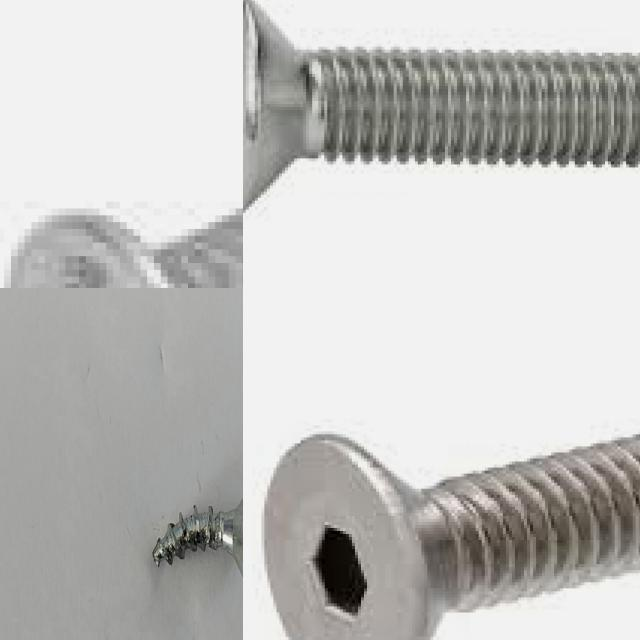Screw: (243, 0, 640, 209), (261, 434, 640, 640), (7, 209, 243, 288), (152, 497, 243, 577)
